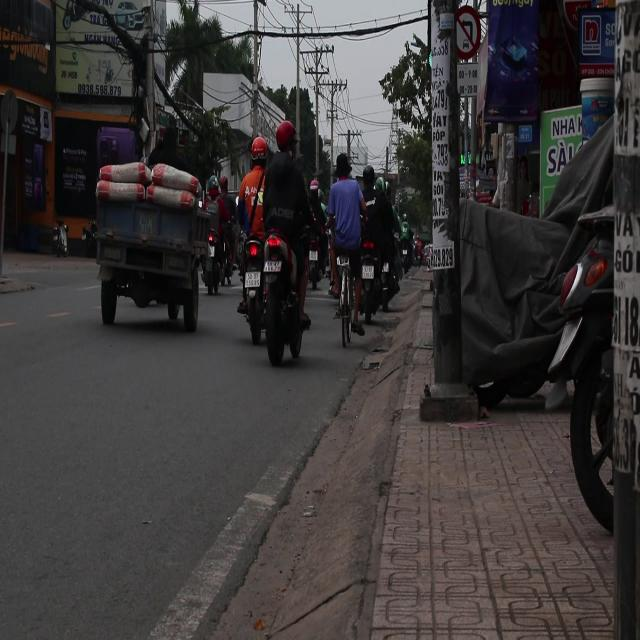motorbike: (543, 161, 639, 575), (238, 208, 310, 363)
truck: (94, 140, 209, 334)
